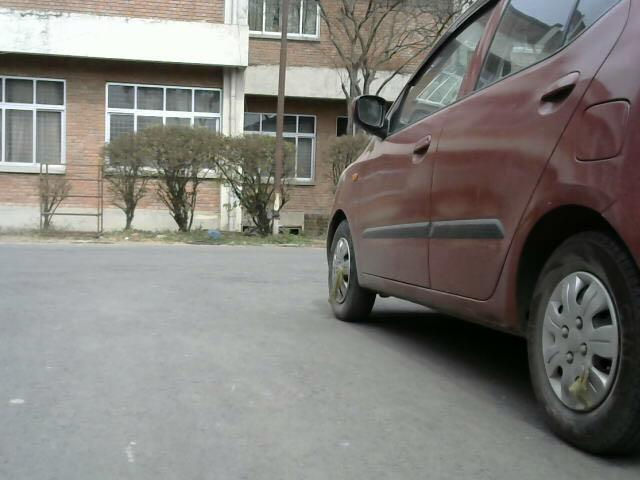Building: (2, 1, 269, 124)
Car: (327, 0, 637, 429)
Road: (1, 235, 606, 480)
Tree: (84, 114, 239, 246), (160, 129, 288, 234)
